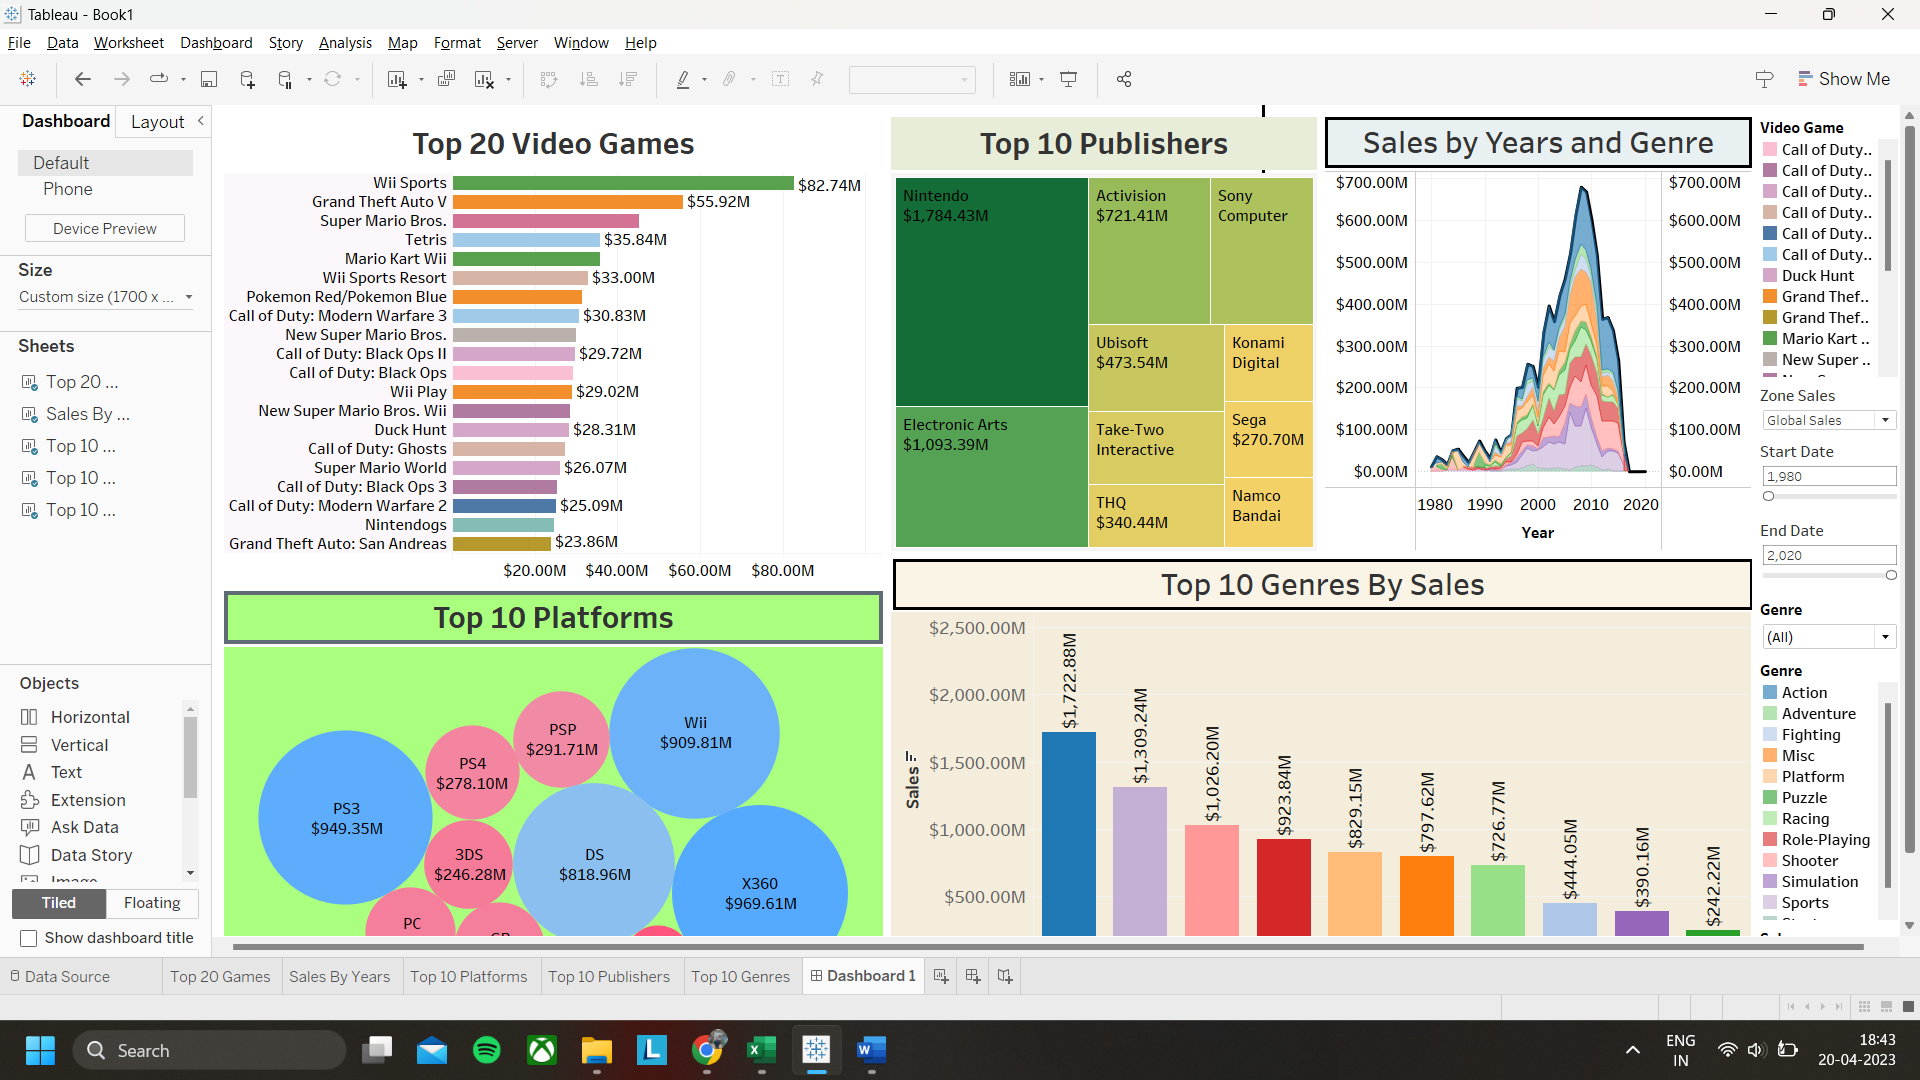

What the dashboard file says about the page in this screenshot:
{"tool":"tableau","page":{"name":"Dashboard ","canvas":[1000,1000],"units":"permille","ordinal":0},"visuals":[{"type":"parameter","param":"[Parameters].[Parameter 1]","box":[4.8,9.4,309.3,76.5]},{"type":"parameter","param":"[Parameters].[Parameter 2]","box":[314.1,9.4,306.4,76.5]},{"type":"parameter","param":"[Parameters].[Parameter 3]","box":[620.5,9.4,374.7,76.5]},{"type":"worksheet","title":"Top 20 Games","mark":"Automatic","rows":["Name"],"cols":["Calculation_704250409125789696"],"box":[4.8,86,386.8,485.1]},{"type":"worksheet","title":"Top 10 Publishers","mark":"Automatic","box":[391.6,86,246.4,452.3]},{"type":"worksheet","title":"Sales By Years","mark":"Automatic","rows":["Calculation_704250409125789696","Calculation_704250409125789696"],"cols":["Year"],"box":[638.1,86,267.8,452.3]},{"type":"legend","title":"Sales By Years","param":"[federated.1hza9gj1e1c2ig14gmp620k49rfk].[none:Genre:nk]","box":[905.9,86,89.3,331.4]},{"type":"worksheet","title":"Top 10 Genres","mark":"Automatic","rows":["Calculation_704250409125789696"],"cols":["Genre"],"box":[391.6,538.3,514.2,452.3]},{"type":"worksheet","title":"Top 10 Platforms","mark":"Circle","box":[4.8,571,386.8,419.6]}]}

Visuals, with their boxes on the dashboard's canvas, which has no fixed pixel size, in thousandths of its width and height (x1, y1, x2, y2). These are canvas units, not pixel positions in the 1920x1080 screenshot, which may show the page scaled, cropped or inside an application window:
parameter: 5,9,314,86
parameter: 314,9,620,86
parameter: 620,9,995,86
"Top 20 Games" worksheet: 5,86,392,571
"Top 10 Publishers" worksheet: 392,86,638,538
"Sales By Years" worksheet: 638,86,906,538
"Sales By Years" legend: 906,86,995,417
"Top 10 Genres" worksheet: 392,538,906,991
"Top 10 Platforms" worksheet (Circle marks): 5,571,392,991
